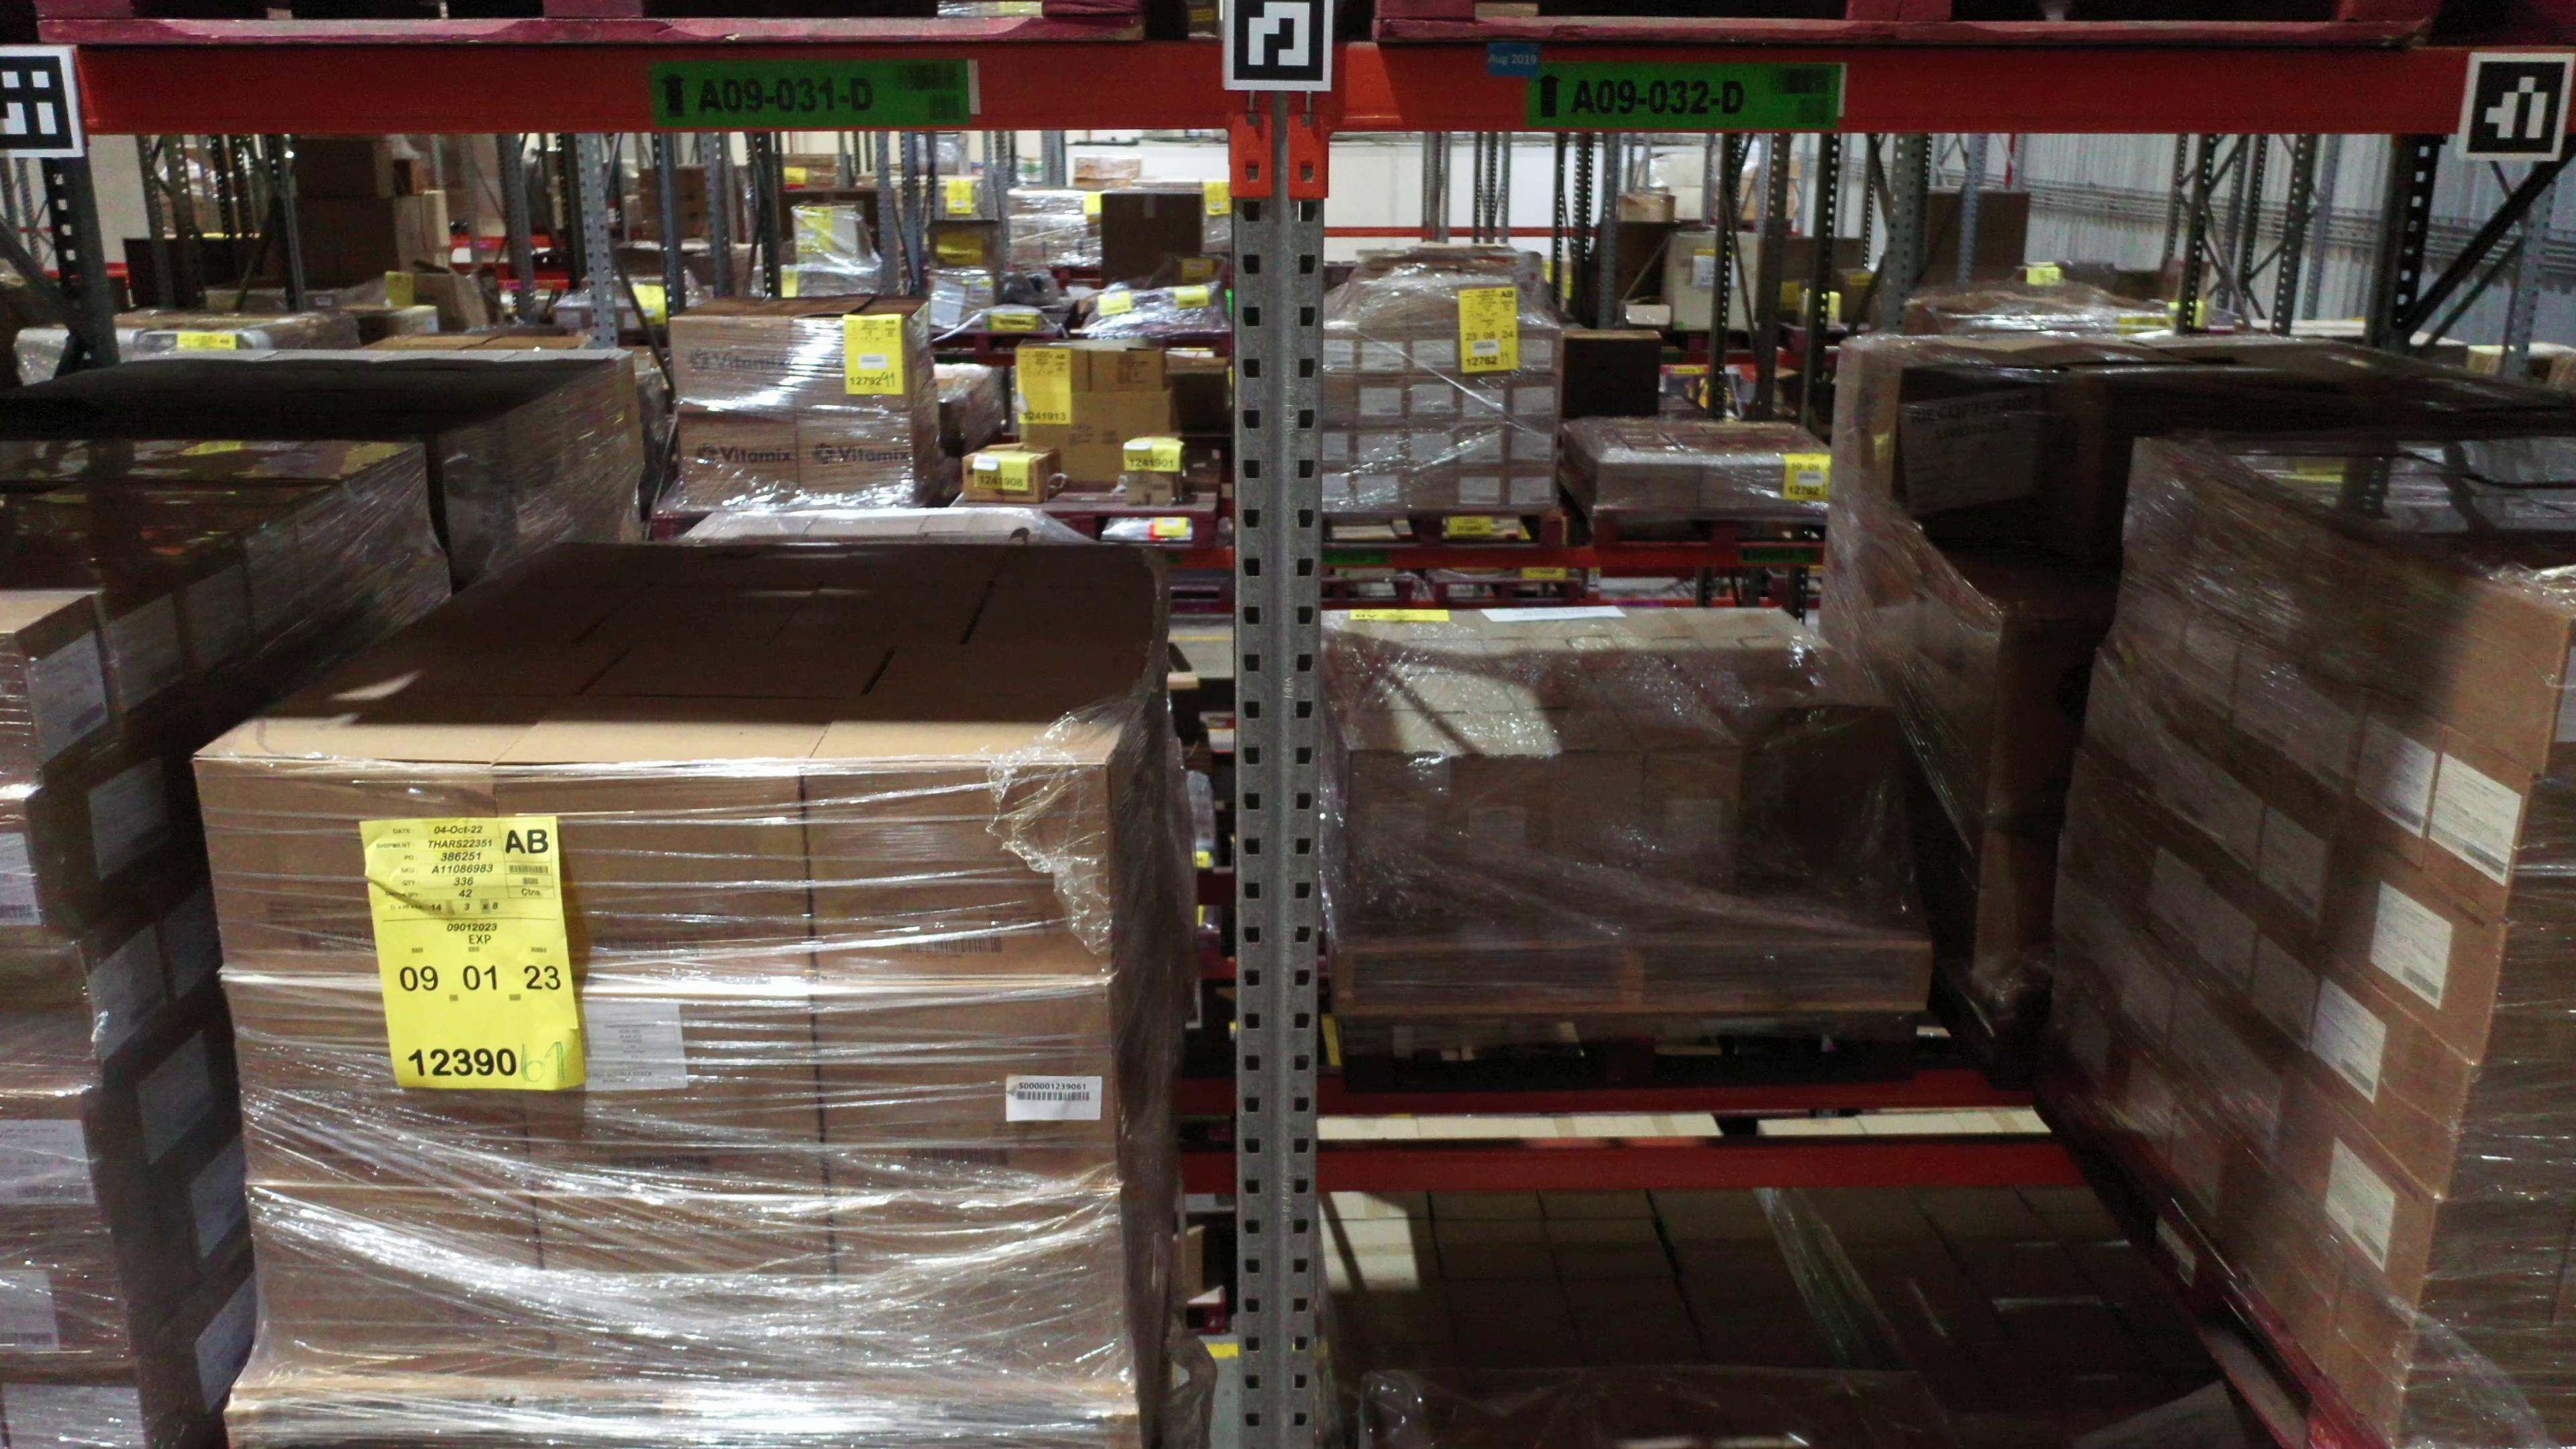-: (193, 756, 512, 993), (498, 765, 812, 1000), (803, 765, 1112, 986), (226, 977, 537, 1192), (512, 993, 830, 1199), (812, 988, 1118, 1199), (246, 1183, 559, 1380), (535, 1189, 843, 1387), (827, 1196, 1134, 1384), (2413, 1201, 2575, 1336), (2393, 1332, 2576, 1448), (2442, 1062, 2576, 1201), (0, 1236, 136, 1357), (2, 1350, 159, 1449), (0, 1095, 107, 1236), (2485, 924, 2576, 1067), (0, 946, 103, 1069), (2504, 773, 2576, 924), (0, 800, 58, 953), (0, 631, 45, 787), (2543, 616, 2576, 778)
box: (1438, 754, 1551, 920), (1342, 751, 1452, 920), (1638, 751, 1741, 918), (1799, 706, 1895, 881), (1546, 754, 1645, 918), (1719, 708, 1797, 877)
